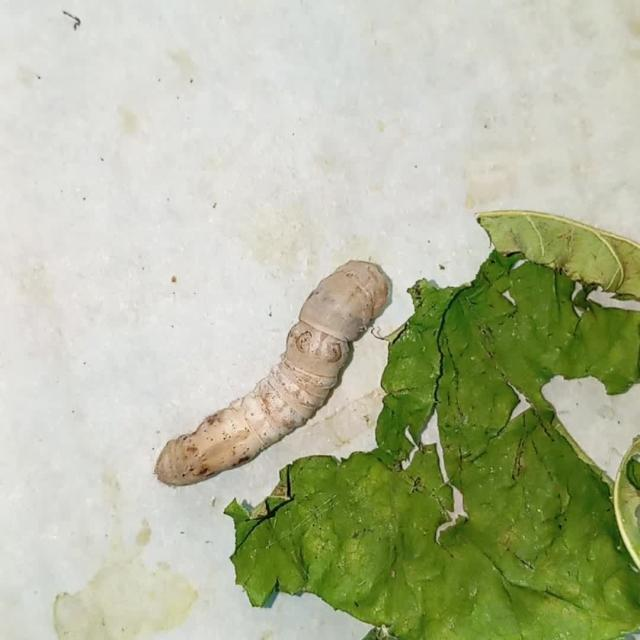Grasserie: (126, 228, 398, 496)
